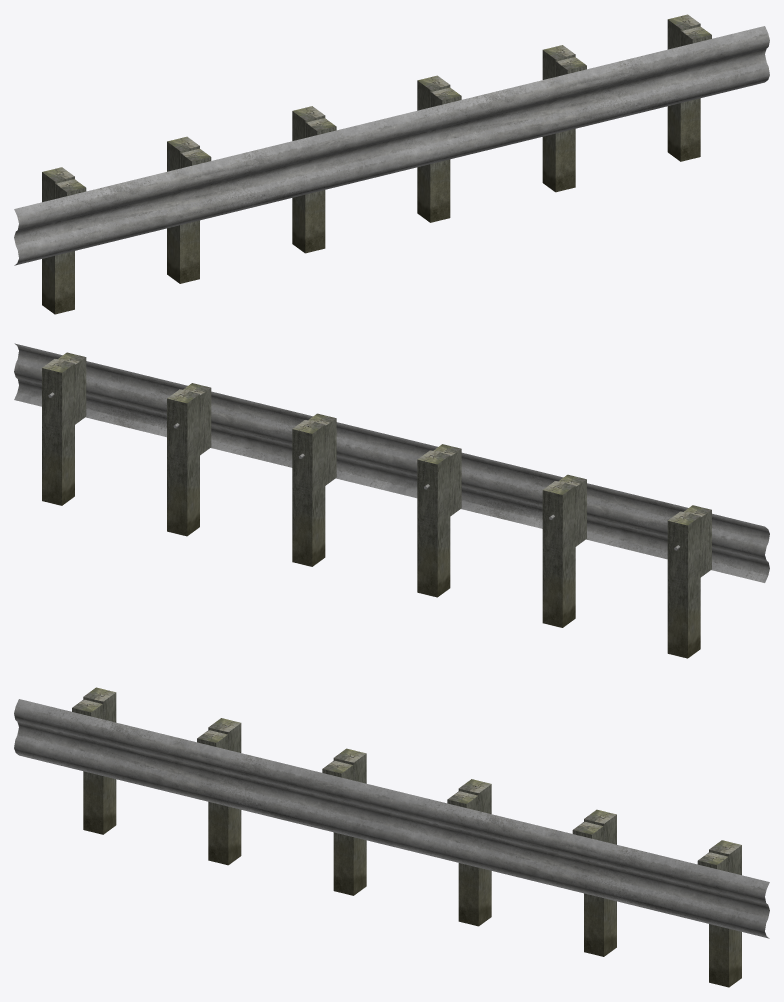
File: road_fence.glb
3 renders of one model, top to bottom at view 1: azimuth 30°, elevation 25°; view 2: azimuth 150°, elevation 25°; view 3: azimuth 330°, elevation 25°, orthographic.
Visible parts, largest first — view 1: SM_Fence_01.001; view 2: SM_Fence_01.001; view 3: SM_Fence_01.001.
Boxes of the visible parts, left/top/right/bottom form: SM_Fence_01.001: left=14, top=14, right=769, bottom=314; SM_Fence_01.001: left=14, top=343, right=769, bottom=658; SM_Fence_01.001: left=14, top=687, right=769, bottom=987.
Size of the model in its own units: 6 by 1.02 by 0.4484.
1 material, 1 textured.
